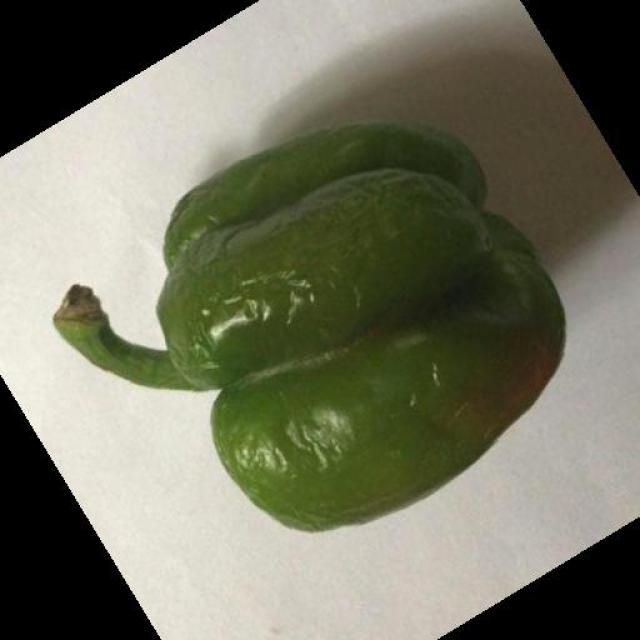Stale_Capsicum: (143, 158, 551, 488)
